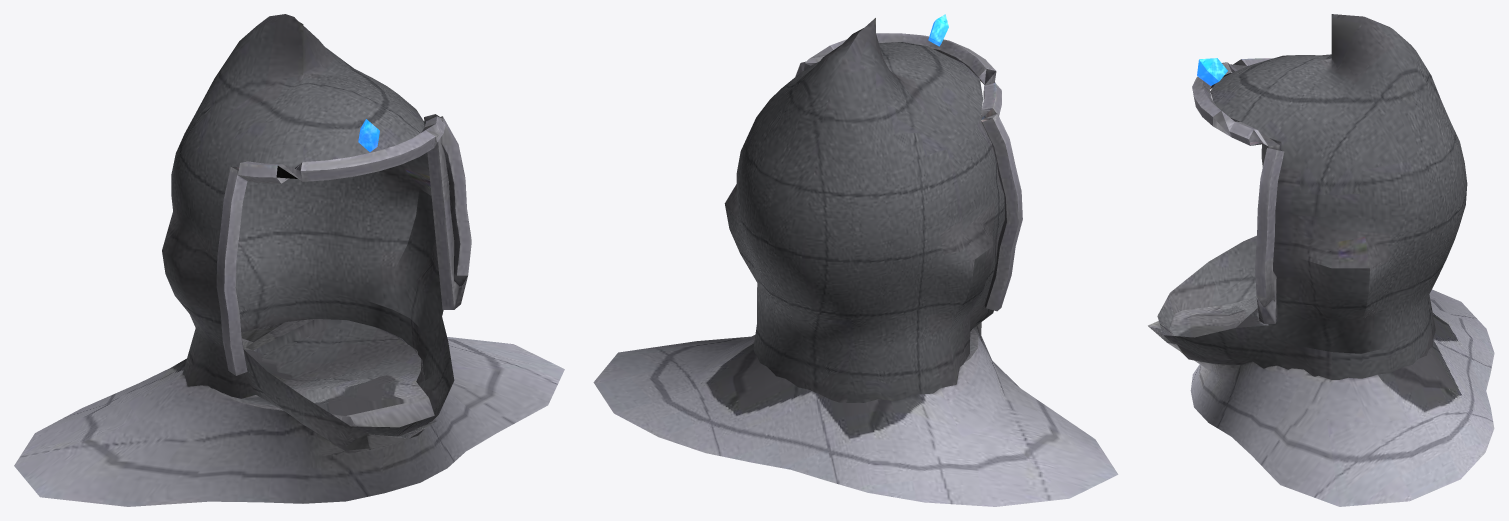
File: Capuz_Arcano_nivel50.glb
3 renders of one model, left to right at view 1: azimuth 30°, elevation 25°; view 2: azimuth 150°, elevation 25°; view 3: azimuth 270°, elevation 25°, orthographic. The views are drawn at different scales.
Visible parts, largest first — view 1: capuz_arcano_nivel50; view 2: capuz_arcano_nivel50; view 3: capuz_arcano_nivel50.
Part boxes in pixels (x1,y1,x2,y2): capuz_arcano_nivel50: [14, 14, 564, 506]; capuz_arcano_nivel50: [593, 14, 1118, 506]; capuz_arcano_nivel50: [1148, 14, 1494, 506].
Size of the model in its own units: 0.4628 by 0.348 by 0.2919.
1 material, 1 textured.
